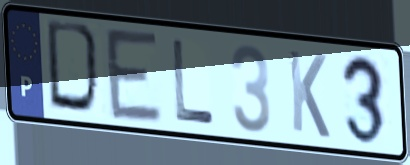3: (340, 50, 394, 150), (229, 41, 273, 135)
D: (44, 16, 107, 120)
E: (103, 25, 166, 127)
K: (285, 46, 332, 142)
L: (169, 35, 216, 128)
